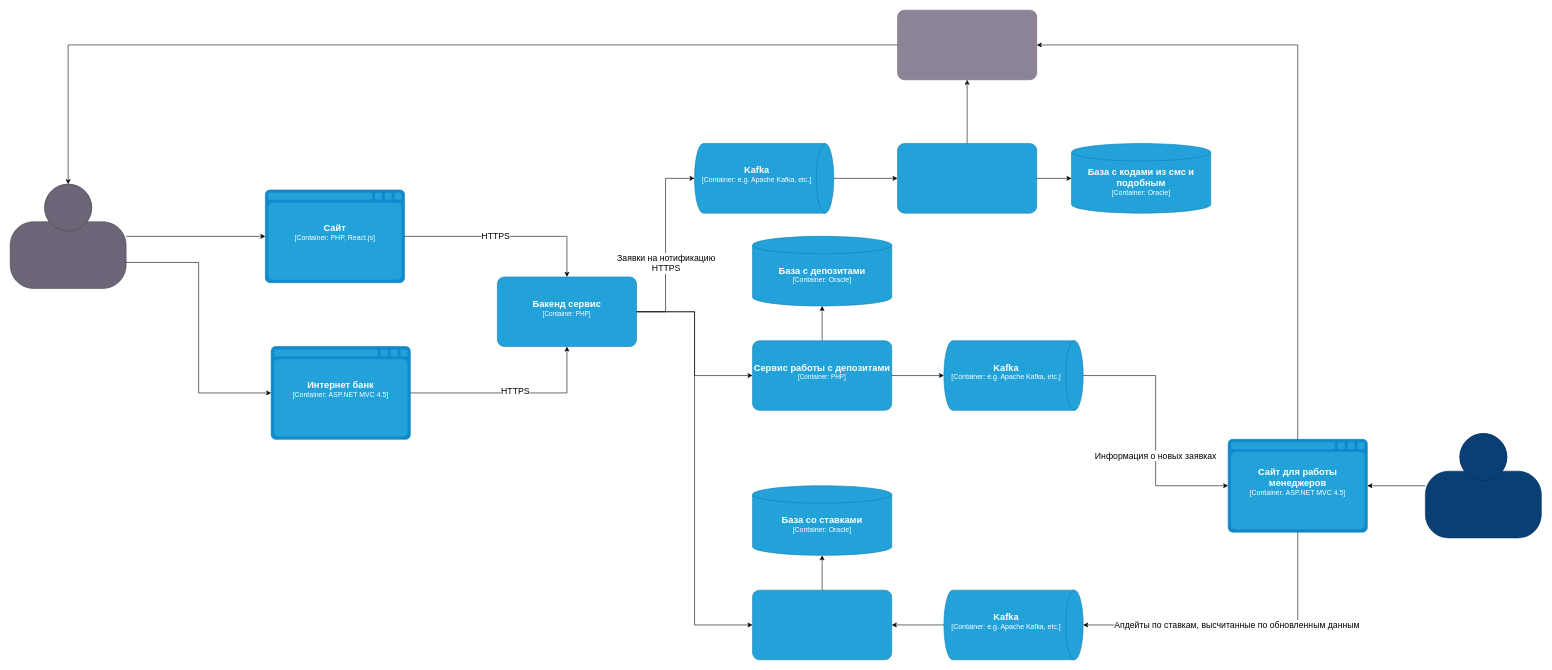
Image size: 1552x670. Some labels were removed from this diagram. Here are the shapes that lost their labels. From the top down, the centre of each, then its label:
At pixel 967 45: "СМС шлюз [Software System]".
At pixel 967 178: "CRM API [Container: SpringBoot] Description of container role/responsibility.".
At pixel 68 236: "Клиент [Person]".
At pixel 1483 485: "Менеджер/работник кол центра [Person]".
At pixel 822 625: "Сервис предоставления данных о ставке [Container: PHP]".
